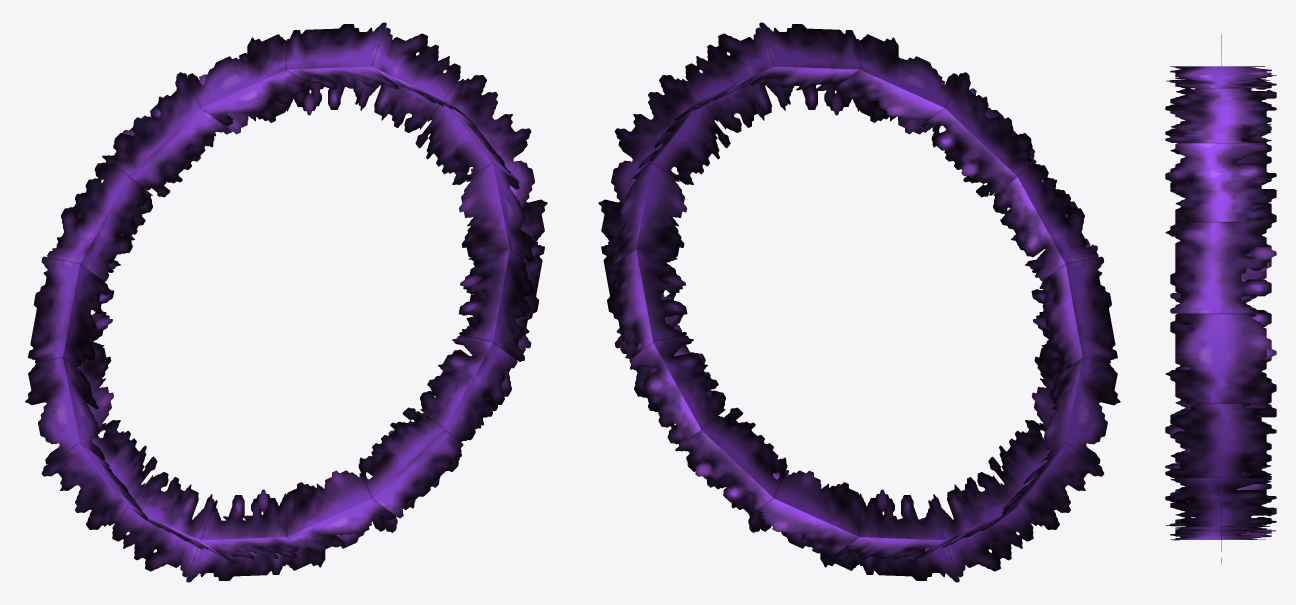
The picture shows the model from 3 angles, left to right: view 1: azimuth 30°, elevation 25°; view 2: azimuth 150°, elevation 25°; view 3: azimuth 270°, elevation 25°; orthographic projection. The views are drawn at different scales.
Visible parts, largest first — view 1: T1L3M000_23; view 2: T1L3M000_23; view 3: T1L3M000_23.
Boxes of the visible parts, x1=… form: T1L3M000_23: x1=25, y1=22, x2=547, y2=582; T1L3M000_23: x1=598, y1=22, x2=1120, y2=582; T1L3M000_23: x1=1165, y1=34, x2=1276, y2=564.
Size of the model in its own units: 2.83 by 2.83 by 0.5957.
